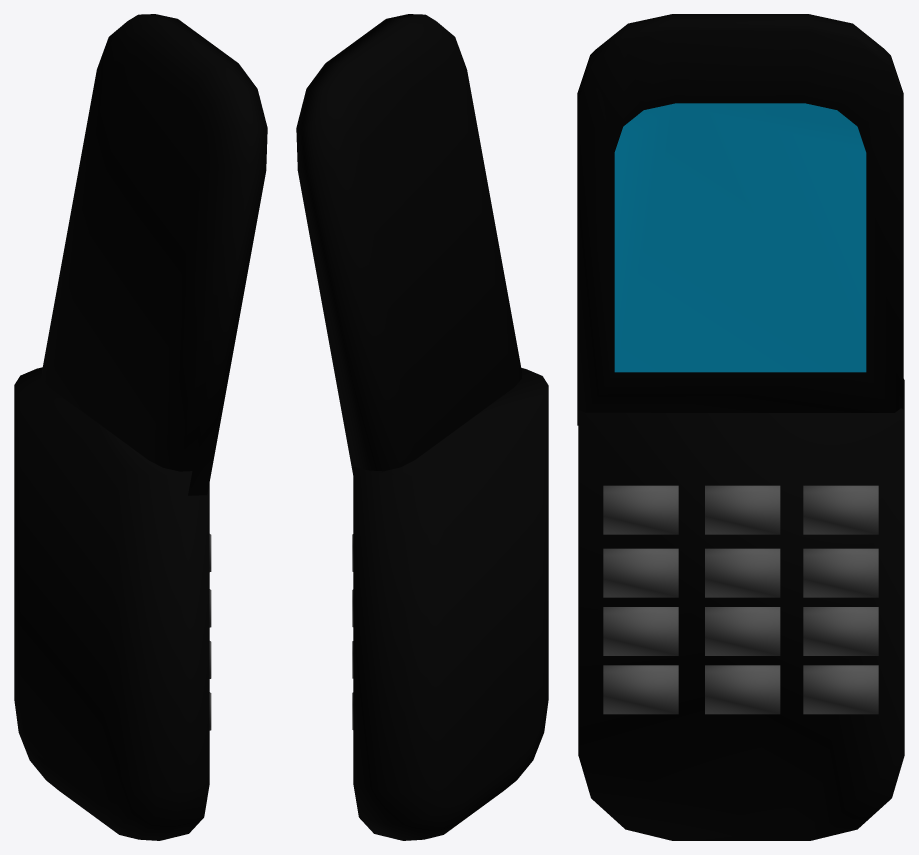
Rendered from Flip Phone.fbx.
3 renders of one model, left to right at view 1: azimuth 30°, elevation 25°; view 2: azimuth 150°, elevation 25°; view 3: azimuth 270°, elevation 25°, orthographic. The views are drawn at different scales.
Parts seen in each view (by area): view 1: Cube, Cube.001; view 2: Cube, Cube.001; view 3: Cube, Cube.001.
Boxes of the visible parts, bbox=[...] form: Cube: bbox=[14, 367, 211, 840]; Cube.001: bbox=[41, 14, 267, 495]; Cube: bbox=[352, 368, 548, 840]; Cube.001: bbox=[296, 14, 522, 474]; Cube: bbox=[578, 379, 904, 840]; Cube.001: bbox=[577, 14, 903, 425].
Size of the model in its own units: 73.68 by 383 by 133.
